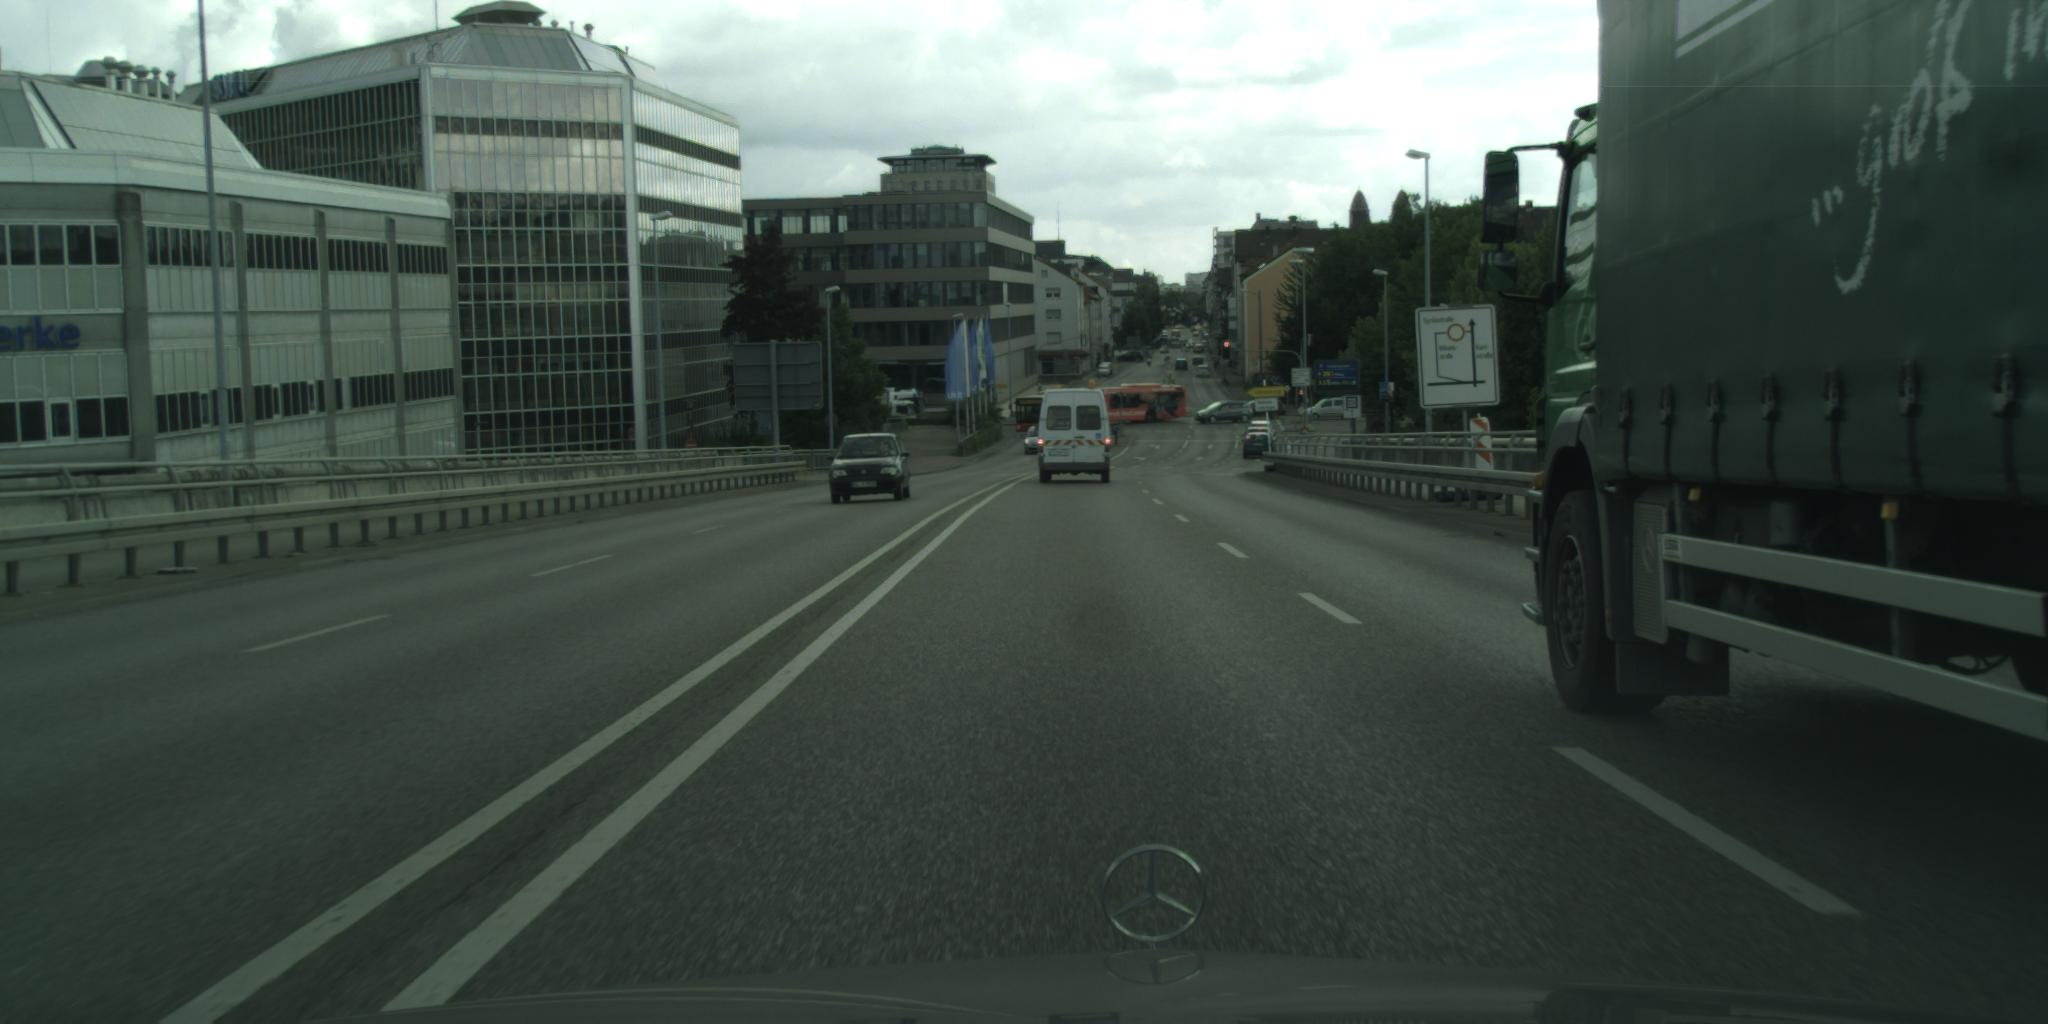bus: (1017, 385, 1187, 434)
car: (1038, 381, 1112, 485), (827, 434, 912, 505), (1195, 401, 1251, 424), (1306, 398, 1349, 422), (1242, 400, 1287, 421), (1024, 427, 1044, 456), (1118, 353, 1144, 362), (1098, 363, 1113, 379), (1196, 366, 1209, 379), (1176, 360, 1189, 371), (1194, 345, 1204, 354), (1192, 358, 1203, 366), (1160, 347, 1170, 354)
motorcycle: (1149, 360, 1152, 367)
truck: (1479, 1, 2045, 744), (874, 389, 925, 424)
